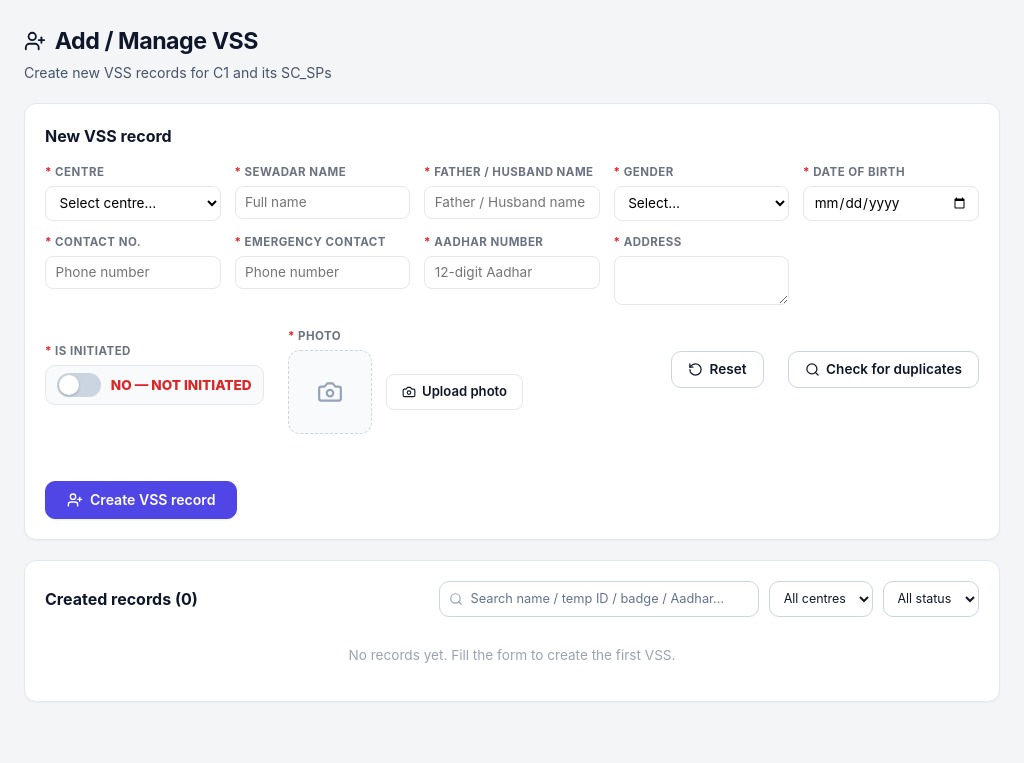
AddVssForm duplicate check (v88) › shows the existing VSS ID and blocks Create when a fuzzy match exists
Type "Abhey Sing" into the field with placeholder "Full name" at (322, 202), box [234,186,410,219]
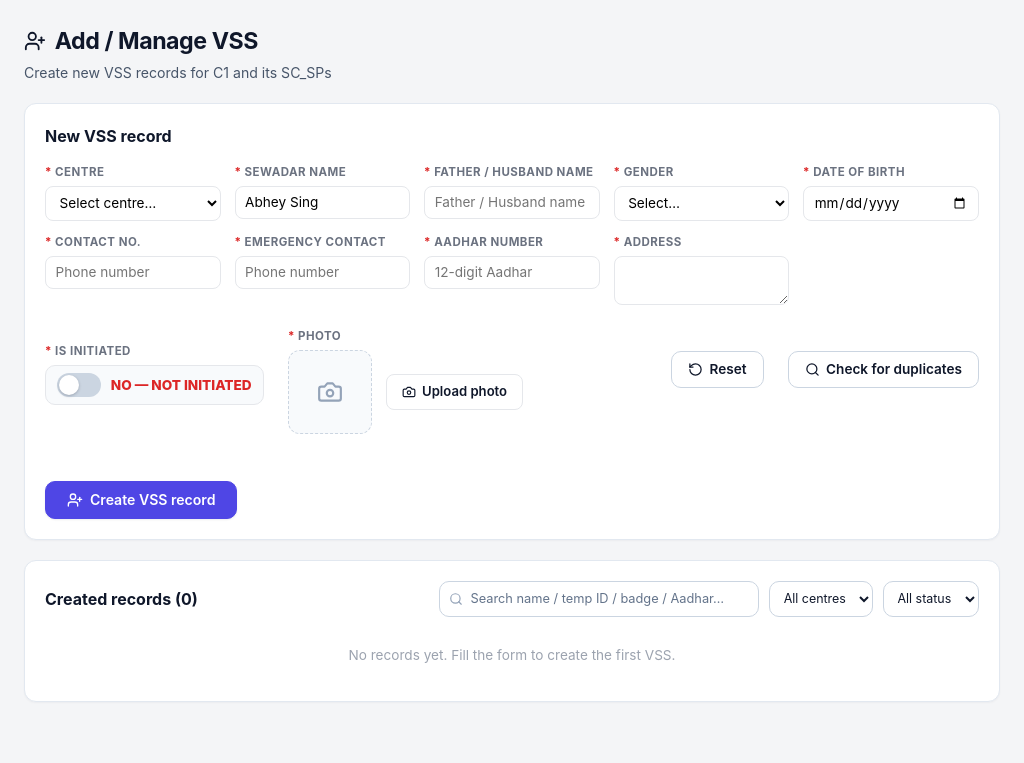
Click the button "Check for duplicates" at (883, 369), box [788,350,979,388]
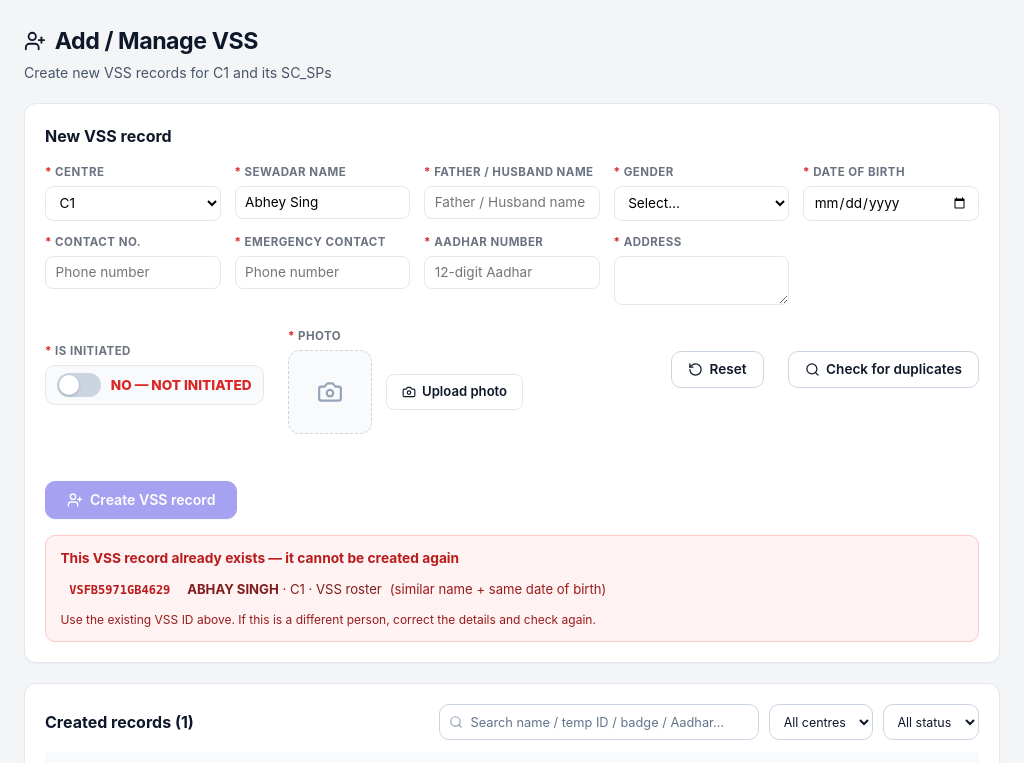
Check: the text "VSFB5971GB4629" is shown, box [60,578,179,602]
Check: the text "This VSS record already exists — it cannot be created again" is shown, box [60,550,459,566]
Check: the button "Create VSS record" is disabled, box [45,481,237,519]
Note: editing the details clears the block so a corrected record can be re-checked
Replace the text in the field with placeholder "Full name" with "Someone Else" at (322, 202), box [234,186,410,219]
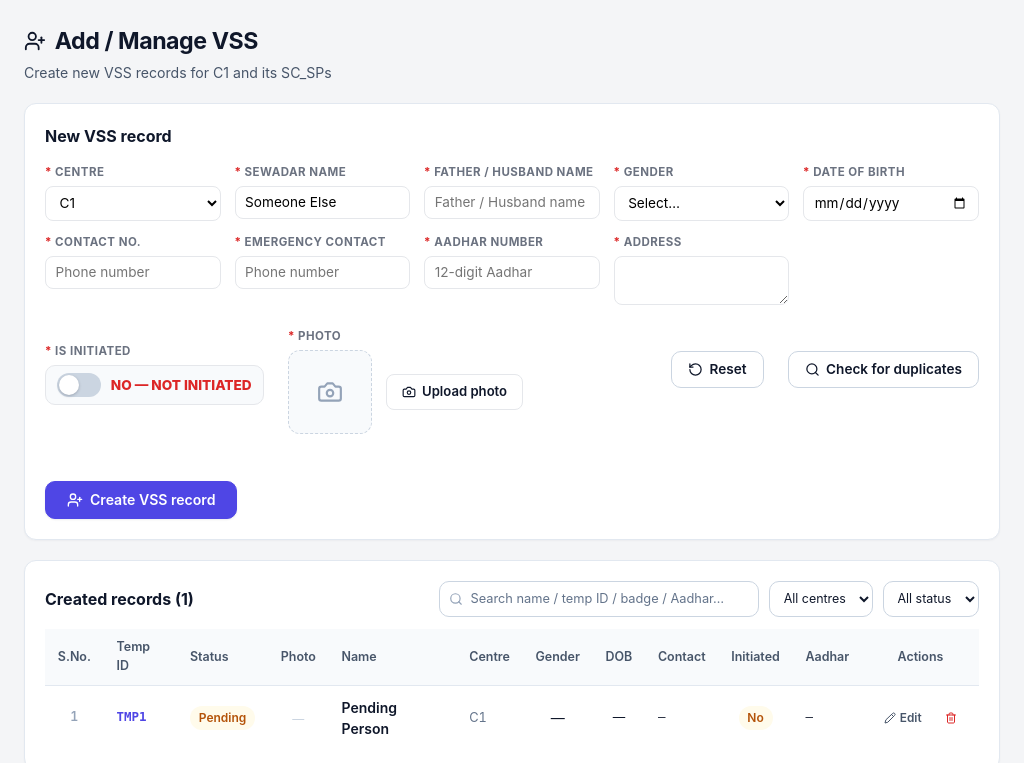
Check: the text "VSFB5971GB4629" is gone
Check: the button "Create VSS record" is enabled, box [45,481,237,519]
